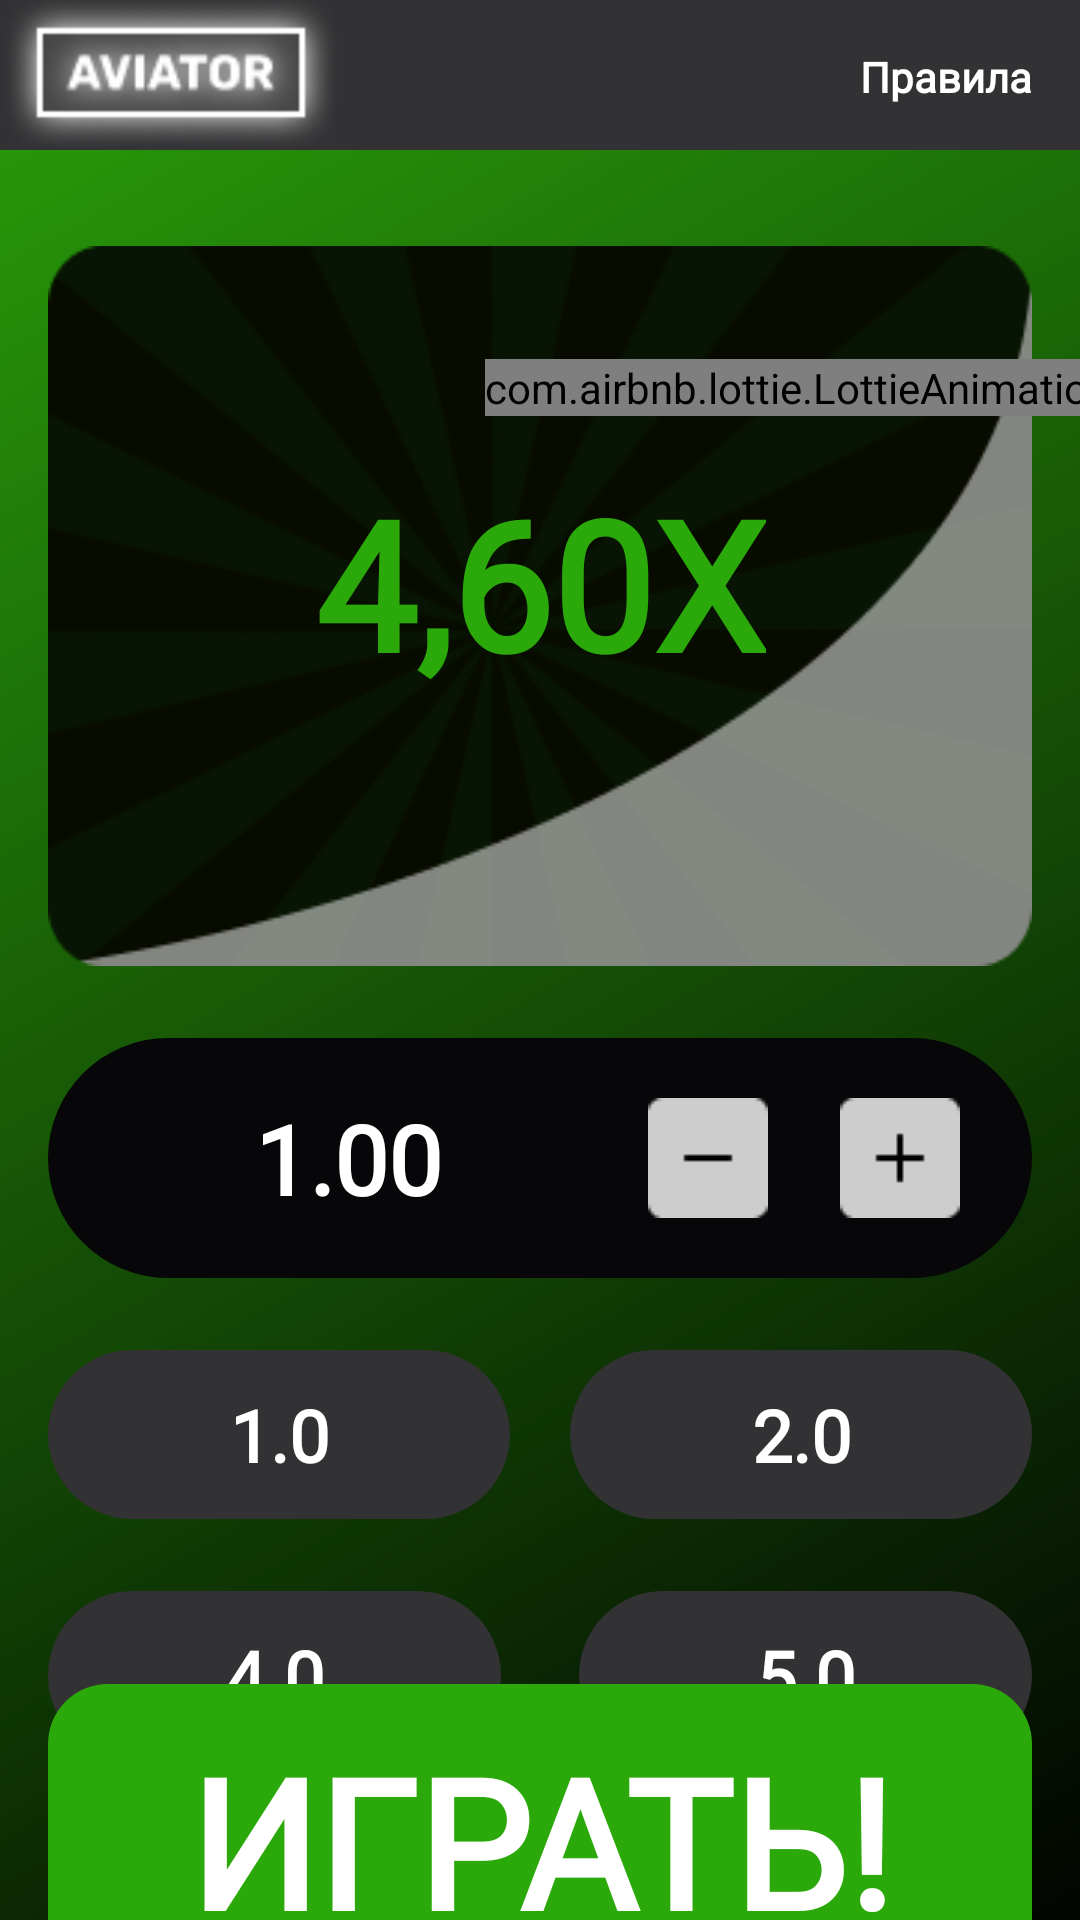

Screen size 1080×1920. Icon name, then its box in pixels as [x1=x1, y1=y1, x2=x2, y2=y2]:
minus: [x1=648, y1=1098, x2=768, y2=1218]
plus: [x1=840, y1=1098, x2=960, y2=1218]
